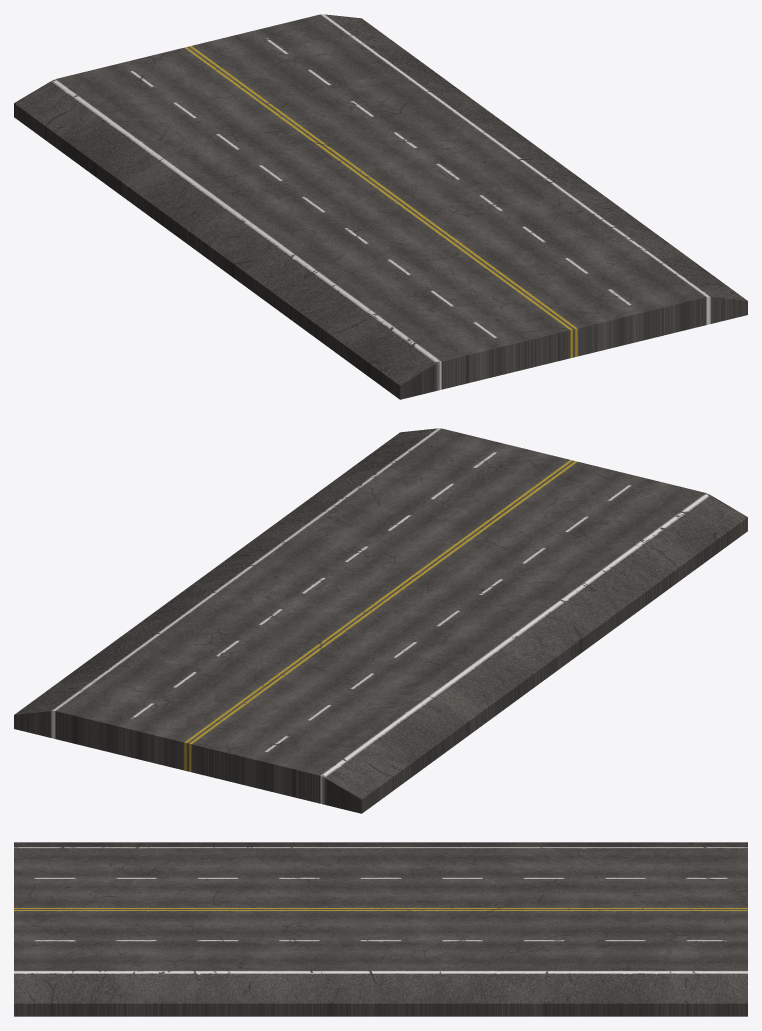
File: trackbase.fbx
3 views of the same model, one above another, from view 1: azimuth 30°, elevation 25°; view 2: azimuth 150°, elevation 25°; view 3: azimuth 270°, elevation 25° (orthographic). The views are drawn at different scales.
Parts seen in each view (by area): view 1: RoadBaseLOD0; view 2: RoadBaseLOD0; view 3: RoadBaseLOD0.
Part boxes in pixels (x1=…): RoadBaseLOD0: x1=14, y1=14, x2=747, y2=399; RoadBaseLOD0: x1=14, y1=428, x2=747, y2=813; RoadBaseLOD0: x1=14, y1=842, x2=747, y2=1016.
Size of what is drawn, in the model's own units: 260 by 20 by 500.
